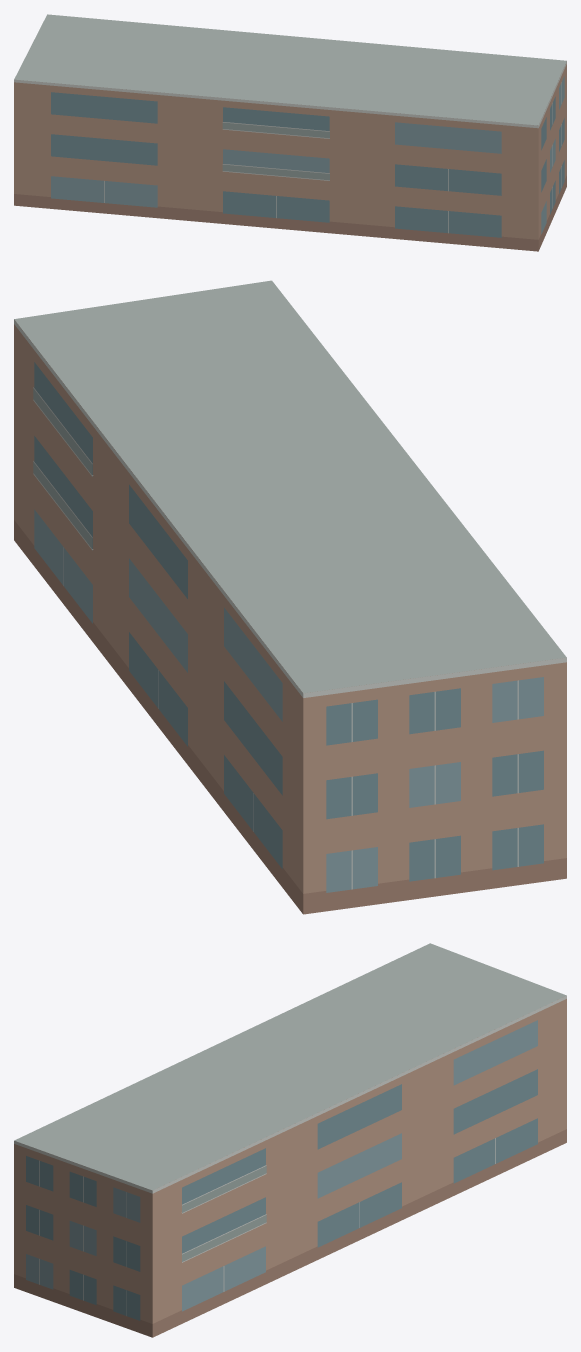
Rendered from survey-upis-32478842.glb.
3 views of the same model, one above another, from view 1: azimuth 30°, elevation 25°; view 2: azimuth 150°, elevation 25°; view 3: azimuth 270°, elevation 25° (orthographic). The views are drawn at different scales.
Visible parts, largest first — view 1: survey-upis-32478842.tmp; view 2: survey-upis-32478842.tmp; view 3: survey-upis-32478842.tmp.
Part boxes in pixels (x1,y1,x2,y2): survey-upis-32478842.tmp: (14, 14, 566, 251); survey-upis-32478842.tmp: (14, 280, 566, 914); survey-upis-32478842.tmp: (14, 943, 566, 1337).
Bounding box in the file's own units: 40.55 × 11.25 × 38.31.
